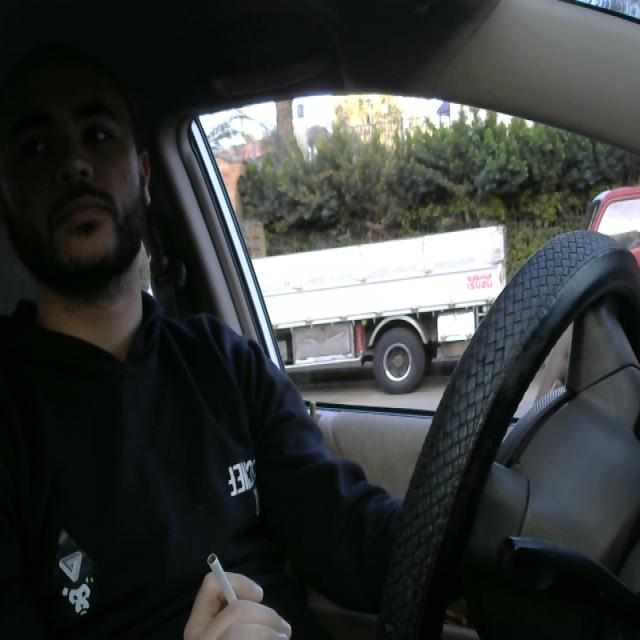smoking: (201, 543, 255, 640)
